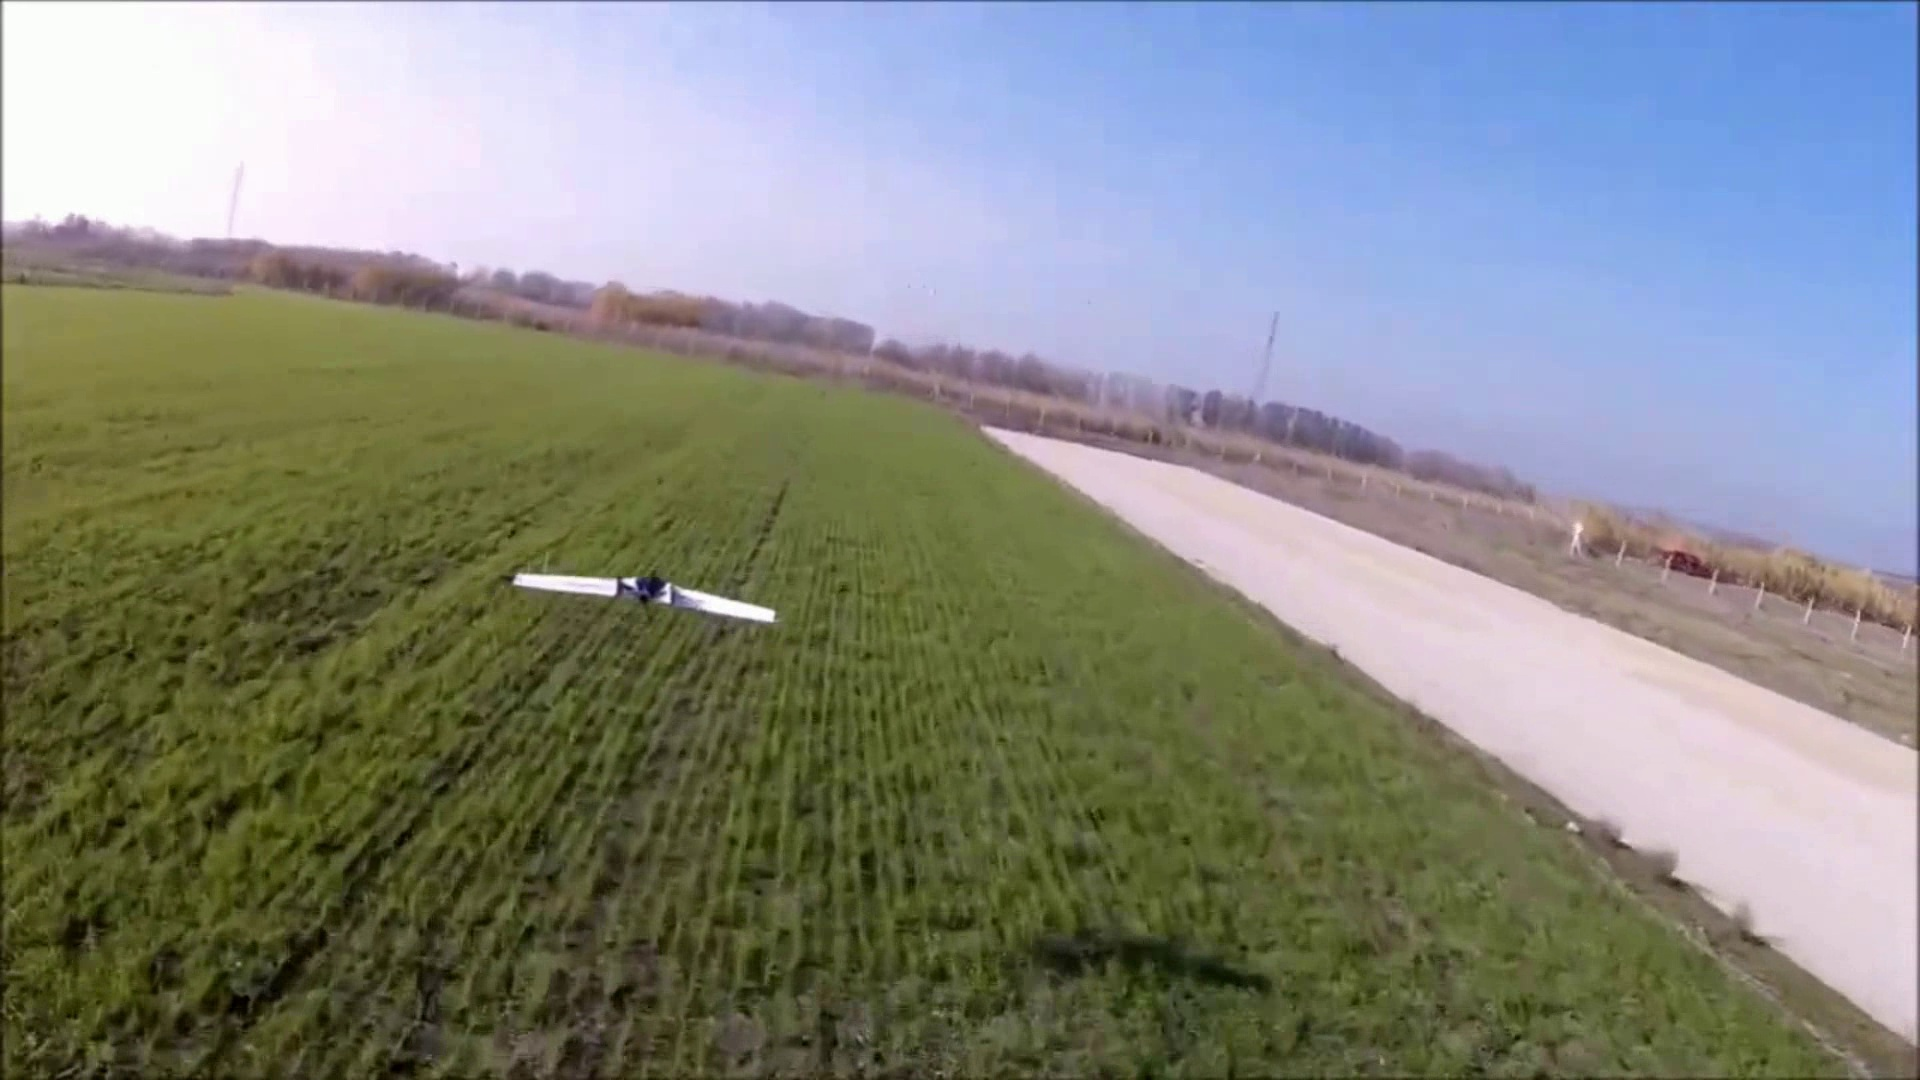airplane: (512, 571, 775, 630)
